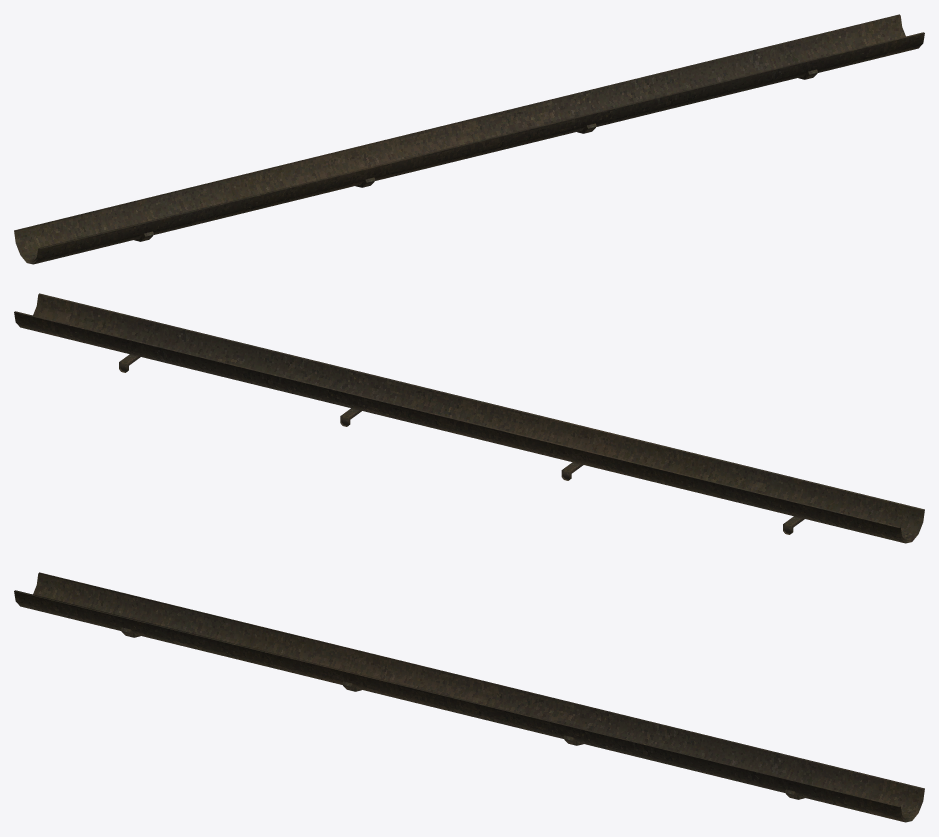
Rendered from rainwater_pipe_hl_1_middle.glb.
The picture shows the model from 3 angles, top to bottom: view 1: azimuth 30°, elevation 25°; view 2: azimuth 150°, elevation 25°; view 3: azimuth 330°, elevation 25°; orthographic projection.
Visible parts, largest first — view 1: rainwater_pipe_hl_1_middle; view 2: rainwater_pipe_hl_1_middle; view 3: rainwater_pipe_hl_1_middle.
Part boxes in pixels (x1,y1,x2,y2): rainwater_pipe_hl_1_middle: (14, 14, 924, 264); rainwater_pipe_hl_1_middle: (14, 293, 924, 543); rainwater_pipe_hl_1_middle: (14, 572, 924, 822).
Bounding box in the file's own units: 4 × 0.14 × 0.21.
1 material, 1 textured.
